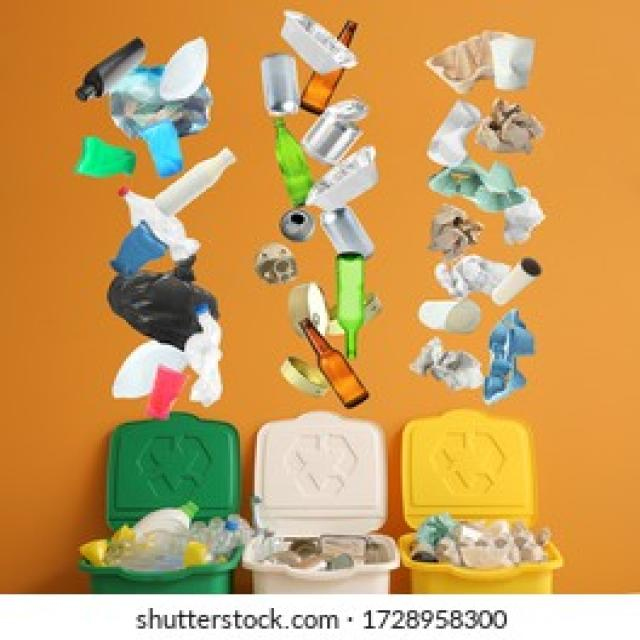cardboard: (431, 306, 531, 402), (436, 114, 516, 210), (414, 516, 546, 564), (429, 36, 497, 92), (490, 256, 552, 302)
glass: (298, 317, 381, 413), (267, 121, 315, 201)
paper: (424, 224, 475, 263)
plastic: (95, 505, 247, 562), (257, 532, 402, 572)
trash: (107, 153, 230, 412), (272, 13, 361, 116)
